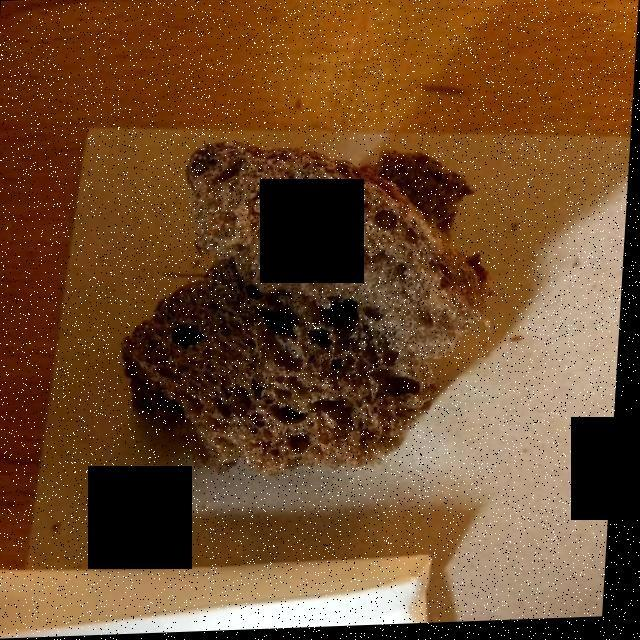bread: (130, 158, 468, 471)
